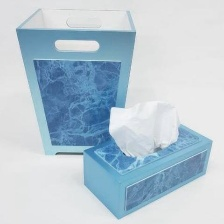plastic_box: (10, 0, 143, 160), (76, 116, 217, 223)
tissue: (101, 97, 186, 161)
